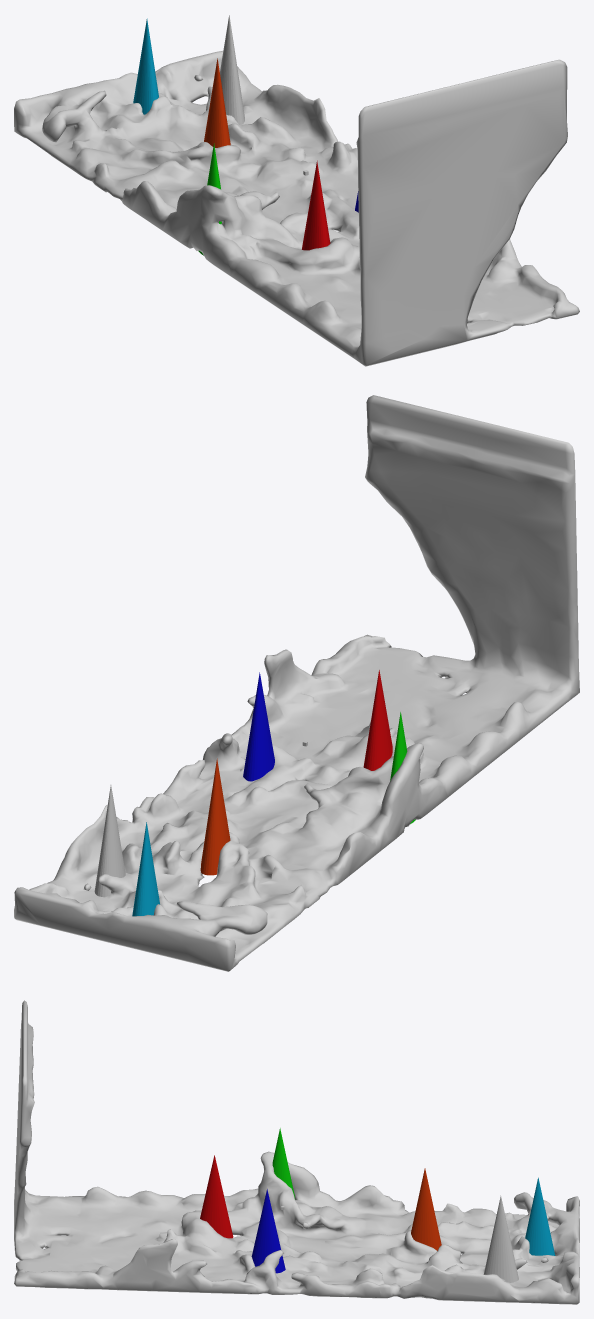
3 renders of one model, top to bottom at view 1: azimuth 30°, elevation 25°; view 2: azimuth 150°, elevation 25°; view 3: azimuth 270°, elevation 25°, orthographic. The views are drawn at different scales.
Visible parts, largest first — view 1: Liquid_Domain, 円錐, 円錐.001, 円錐.005, 円錐.004; view 2: Liquid_Domain, 円錐.002, 円錐.004, 円錐, 円錐.001, 円錐.005; view 3: Liquid_Domain, 円錐, 円錐.001, 円錐.004, 円錐.005, 円錐.002, 円錐.003.
Boxes of the visible parts, x1,y1,x2,y2 form: Liquid_Domain: (14,51,579,366); 円錐: (220,15,244,124); 円錐.001: (302,160,330,250); 円錐.005: (133,18,158,114); 円錐.004: (204,58,230,147); Liquid_Domain: (14,395,579,971); 円錐.002: (243,672,274,781); 円錐.004: (200,758,230,875); 円錐: (94,785,125,897); 円錐.001: (363,670,392,770); 円錐.005: (132,822,159,916); Liquid_Domain: (14,1000,579,1304); 円錐: (484,1195,518,1282); 円錐.001: (200,1155,233,1238); 円錐.004: (411,1168,441,1250); 円錐.005: (525,1177,555,1255); 円錐.002: (251,1189,285,1273); 円錐.003: (272,1128,295,1199).
Bounding box in the file's own units: 129 × 158 × 361.
